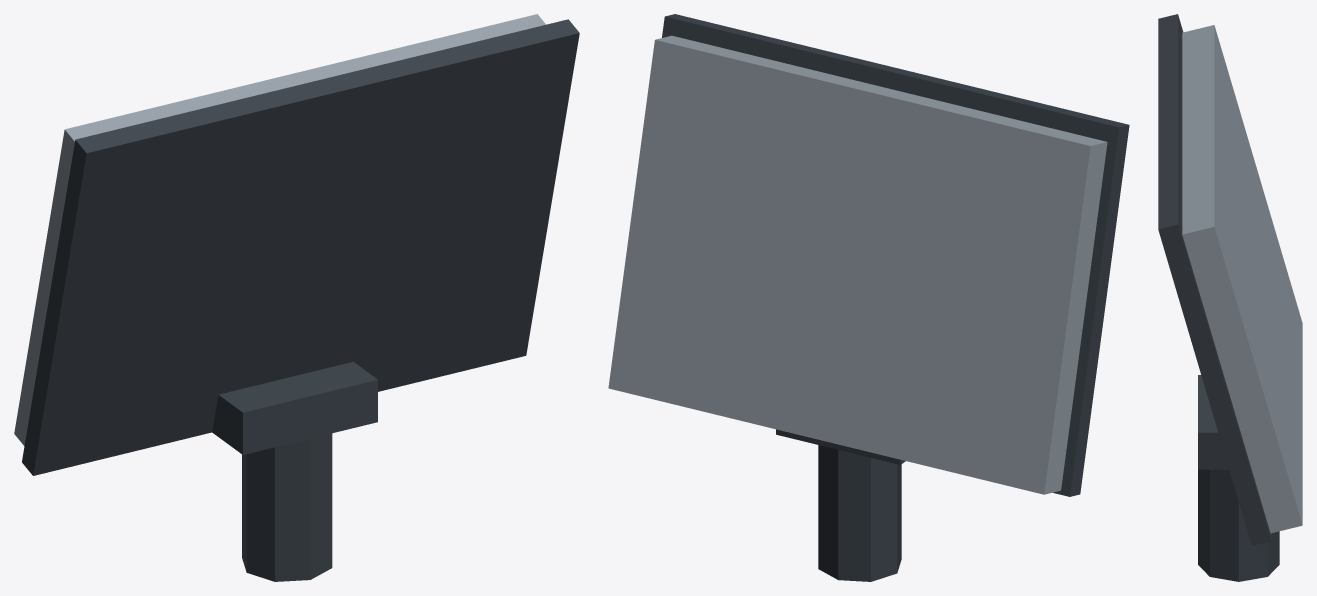
File: env_fallow_radar.fbx
The picture shows the model from 3 angles, left to right: view 1: azimuth 30°, elevation 25°; view 2: azimuth 150°, elevation 25°; view 3: azimuth 270°, elevation 25°; orthographic projection. The views are drawn at different scales.
Visible parts, largest first — view 1: env_fallow_radar; view 2: env_fallow_radar; view 3: env_fallow_radar.
Boxes of the visible parts, bbox=[...] form: env_fallow_radar: bbox=[14, 14, 579, 581]; env_fallow_radar: bbox=[608, 14, 1129, 581]; env_fallow_radar: bbox=[1158, 14, 1302, 581].
Bounding box in the file's own units: 730 × 720 × 212.
